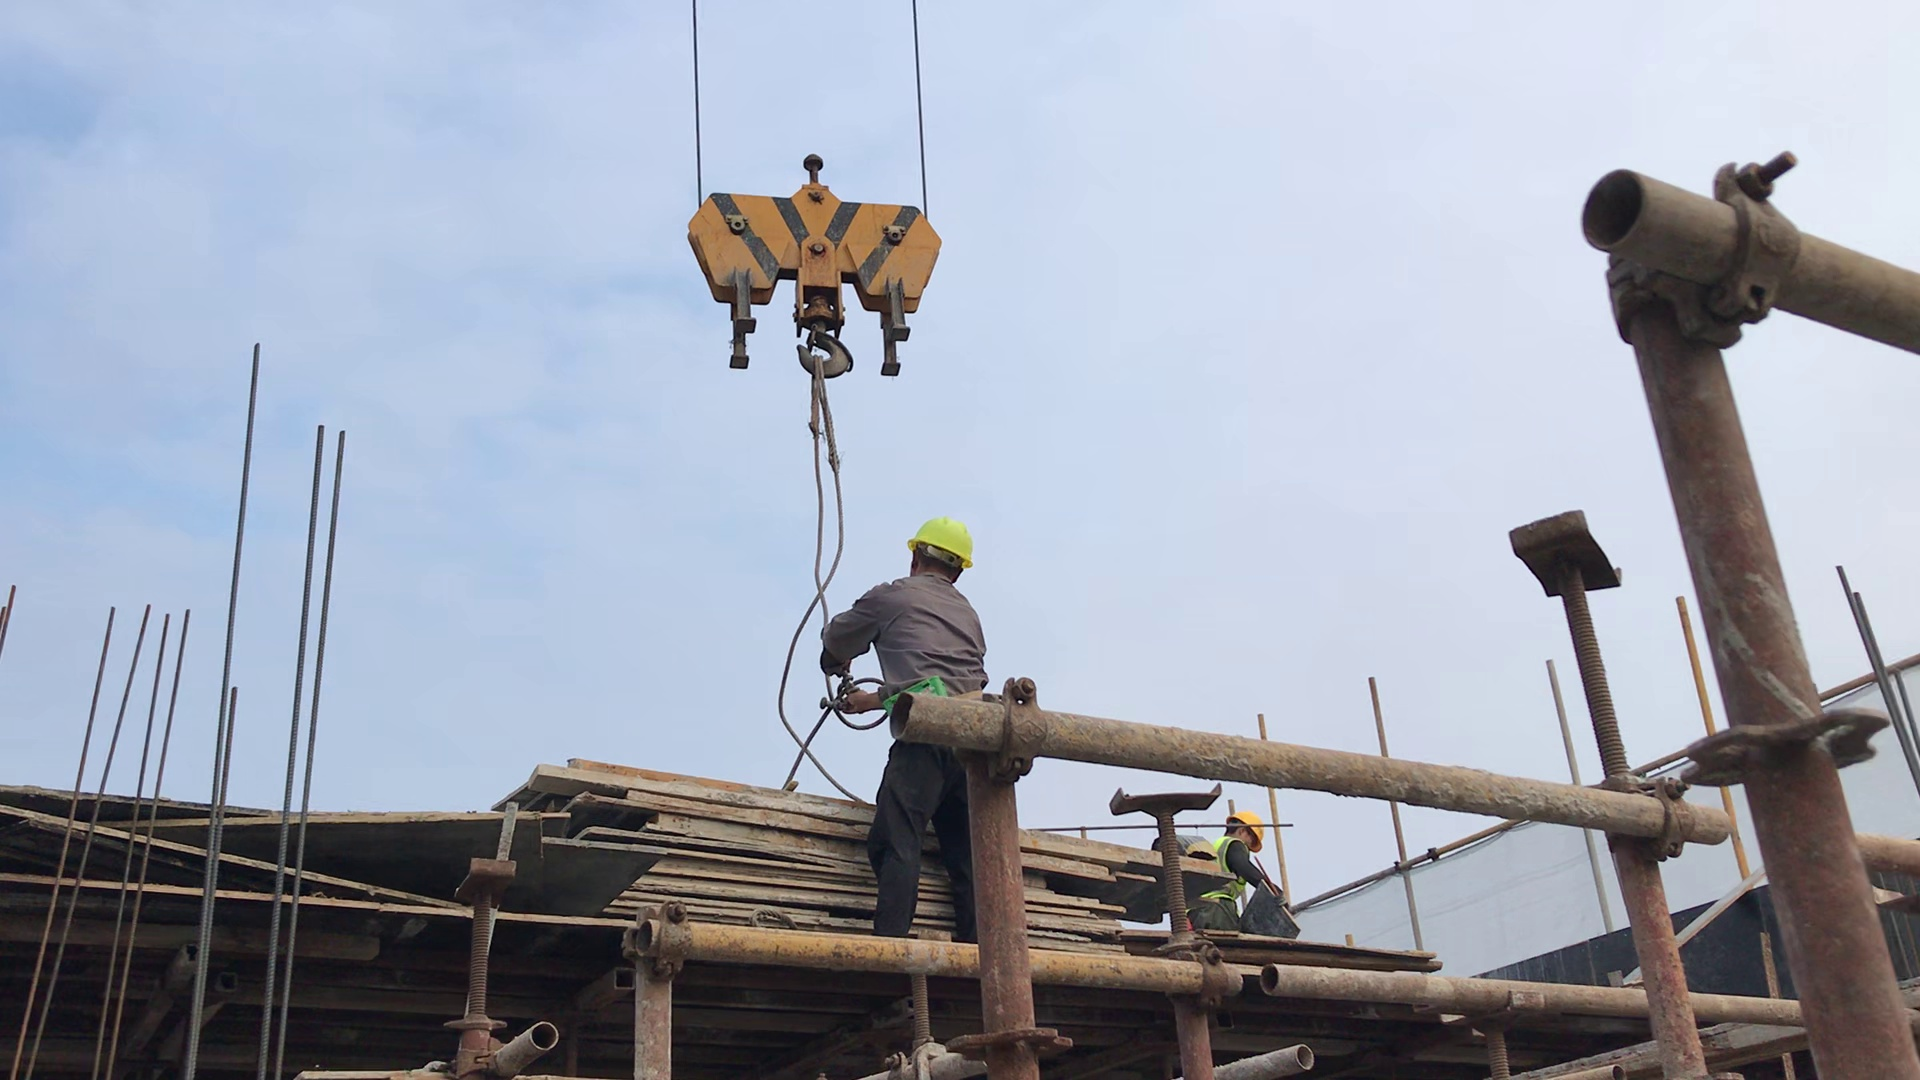board: (511, 750, 1228, 962)
helmet: (906, 518, 971, 565), (1226, 811, 1262, 852)
hook: (690, 153, 943, 387)
person: (823, 518, 998, 946), (1182, 811, 1269, 935)
